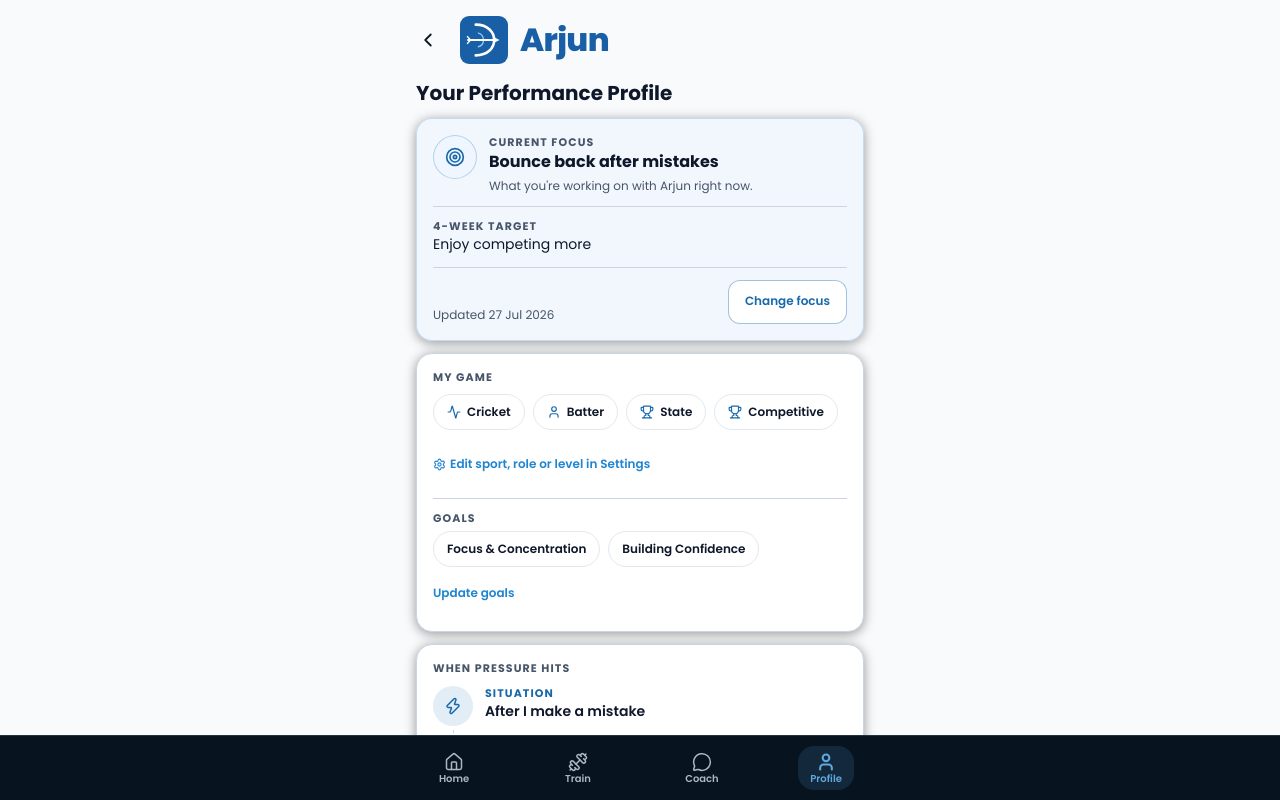
it: the dialog has proper semantics, initial focus and Escape-to-close
Click the button "Change focus" at (787, 302), box 728,280 -> 847,324
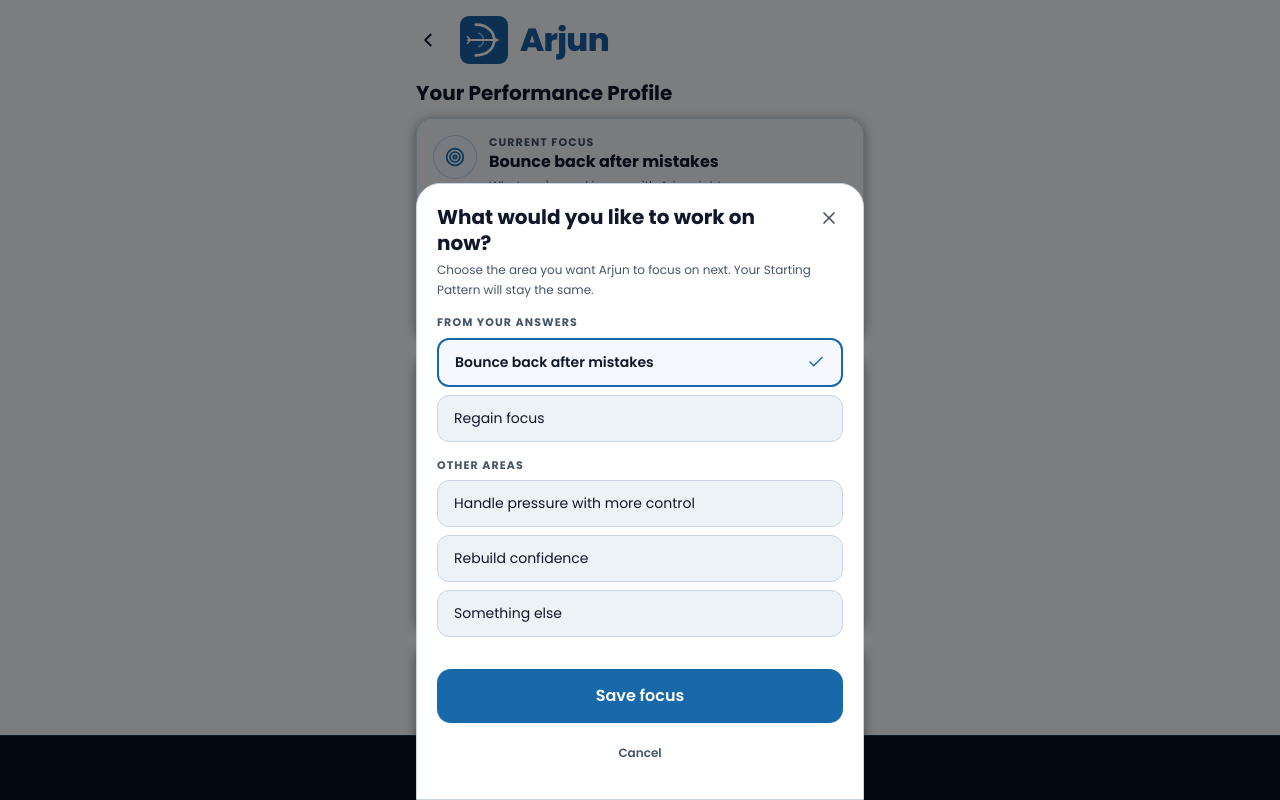
Press Escape
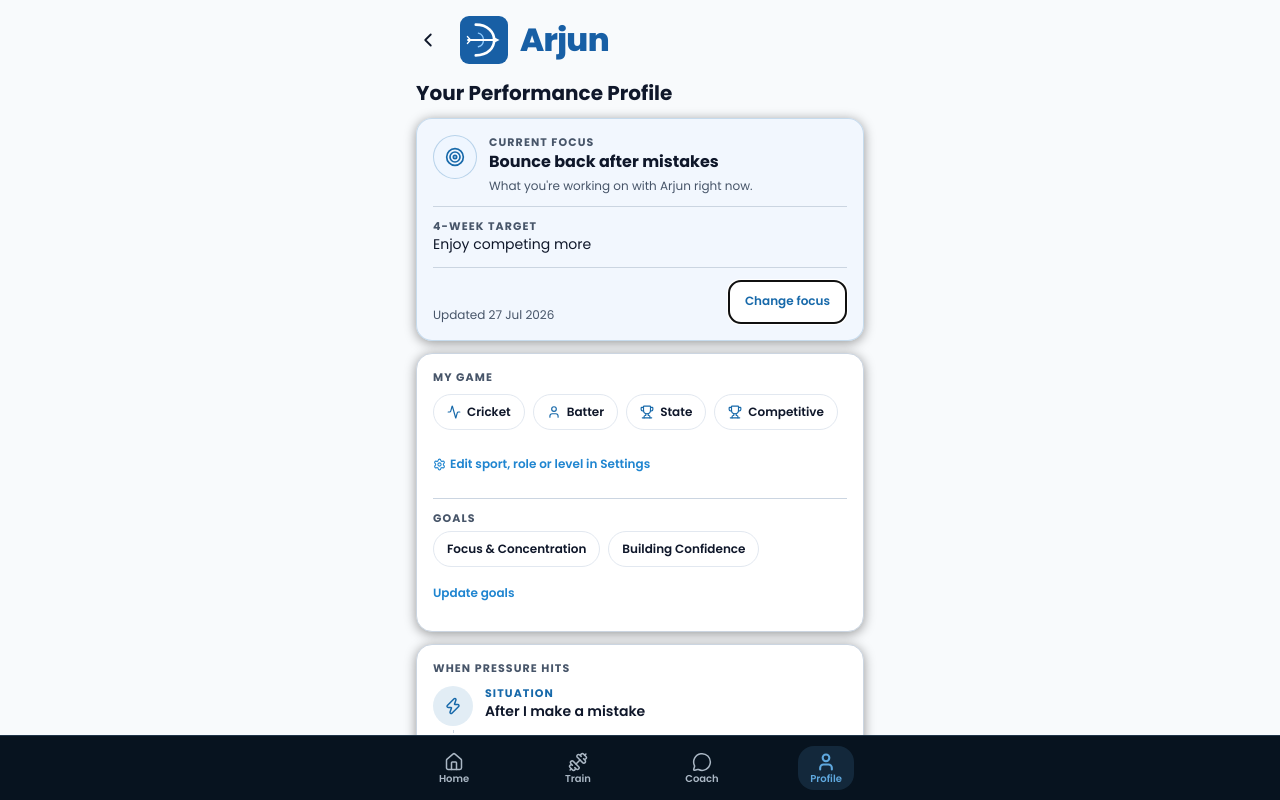
Expected: the button "Change focus" is shown, 728,280 -> 847,324
Expected: the dialog is gone
